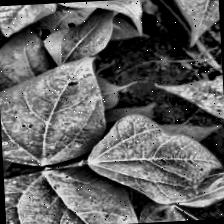ALS: (0, 47, 104, 165), (92, 109, 215, 206), (3, 165, 162, 224), (151, 70, 224, 125)
